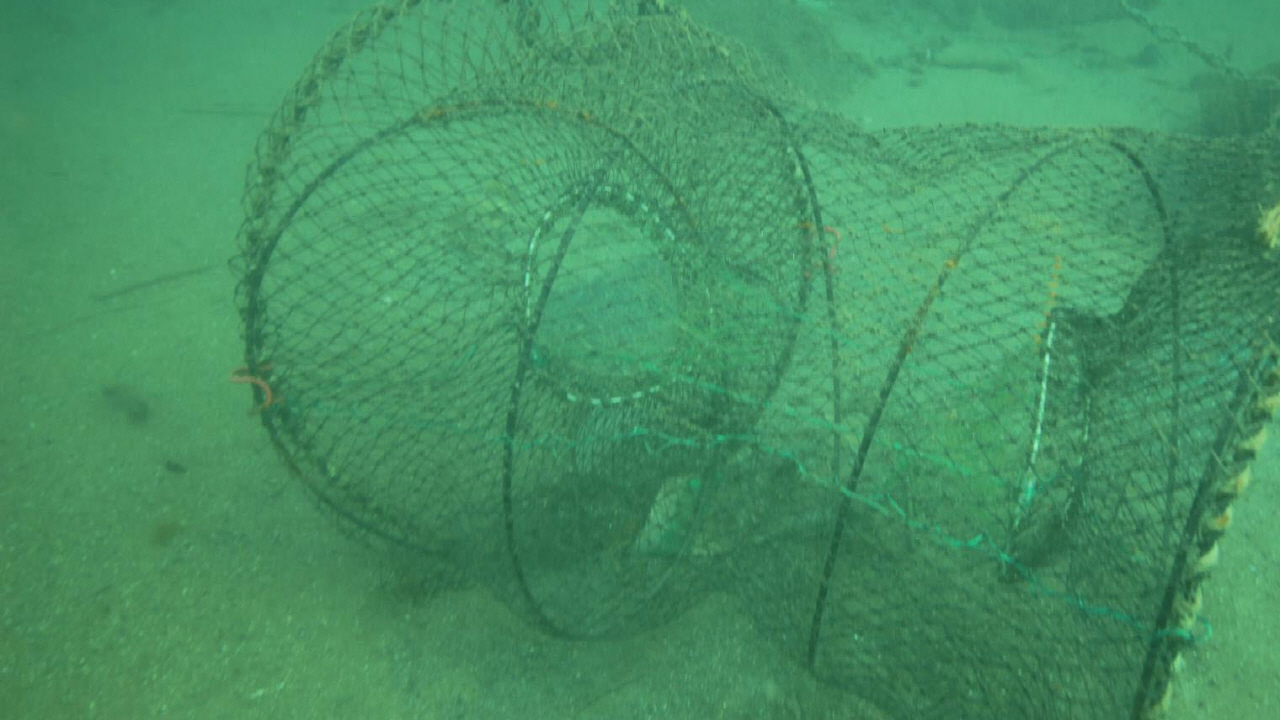spring fish trap: (231, 5, 1280, 720)
